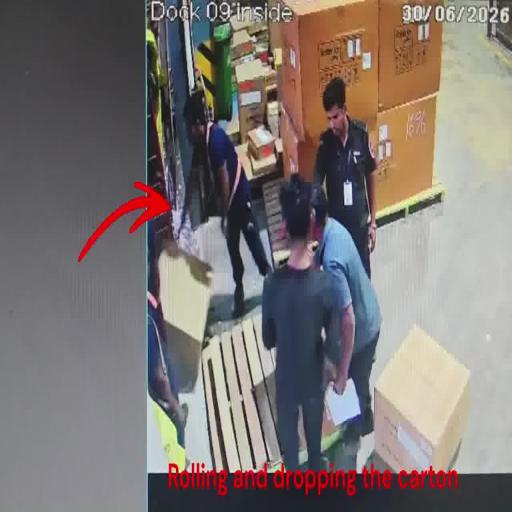carton: (373, 327, 469, 486), (280, 2, 380, 142), (374, 92, 439, 223), (158, 249, 214, 393), (380, 0, 444, 111), (278, 94, 326, 189)
pallet: (197, 309, 339, 477), (376, 179, 446, 233)
person: (260, 172, 355, 479), (184, 92, 272, 306), (307, 184, 381, 438), (309, 77, 380, 280), (147, 290, 189, 452)
